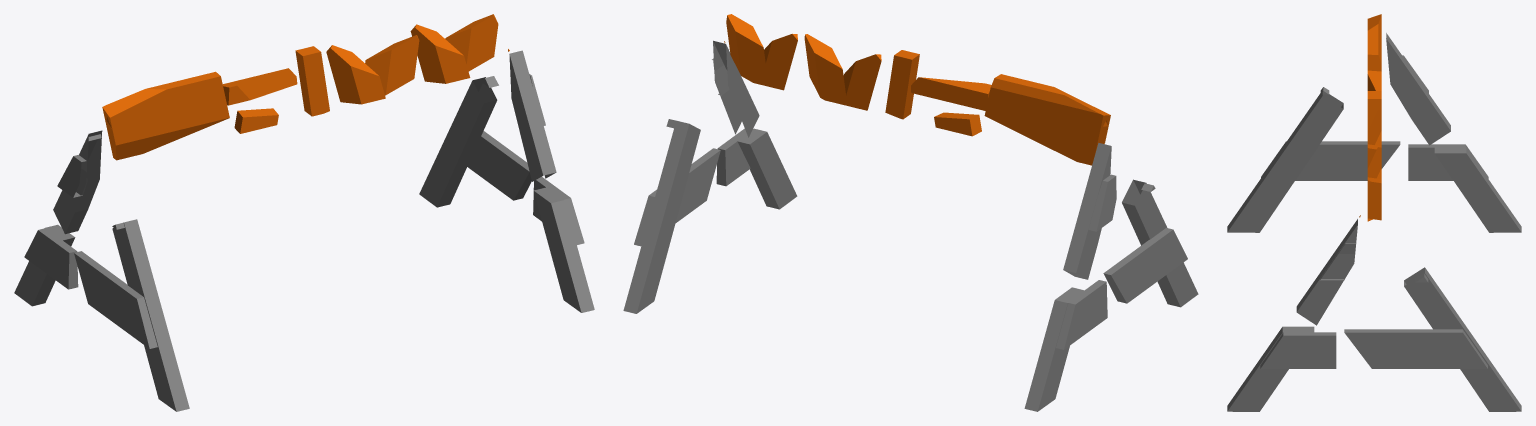
Rendered from Destroyed Wood Barrier.fbx.
The picture shows the model from 3 angles, left to right: view 1: azimuth 30°, elevation 25°; view 2: azimuth 150°, elevation 25°; view 3: azimuth 270°, elevation 25°; orthographic projection. The views are drawn at different scales.
Visible parts, largest first — view 1: Cube.038, Cube.040, Cube.050, Cube.049, Cube, Cube.051, Cube.048, Cube.043, Cube.045, Cube.044, Cube.046, Cube.047 (+2 smaller); view 2: Cube.050, Cube.040, Cube.038, Cube, Cube.049, Cube.048, Cube.051, Cube.044, Cube.046, Cube.041, Cube.047, Cube.043 (+2 smaller); view 3: Cube.050, Cube.038, Cube, Cube.049, Cube.048, Cube.051, Cube.040, Cube.046, Cube.047, Cube.043, Cube.045, Cube.041.
Part boxes in pixels (x1=…): Cube.038: x1=74, y1=219, x2=189, y2=411; Cube.040: x1=102, y1=71, x2=229, y2=160; Cube.050: x1=419, y1=76, x2=531, y2=207; Cube.049: x1=533, y1=176, x2=594, y2=312; Cube: x1=14, y1=224, x2=78, y2=306; Cube.051: x1=509, y1=50, x2=556, y2=181; Cube.048: x1=53, y1=130, x2=102, y2=234; Cube.043: x1=326, y1=45, x2=385, y2=104; Cube.045: x1=410, y1=24, x2=470, y2=83; Cube.044: x1=365, y1=35, x2=419, y2=95; Cube.046: x1=445, y1=14, x2=509, y2=72; Cube.047: x1=295, y1=46, x2=329, y2=116; Cube.050: x1=623, y1=119, x2=720, y2=313; Cube.040: x1=984, y1=74, x2=1110, y2=165; Cube.038: x1=1103, y1=179, x2=1198, y2=307; Cube: x1=1024, y1=280, x2=1107, y2=411; Cube.049: x1=716, y1=128, x2=797, y2=209; Cube.048: x1=1063, y1=143, x2=1116, y2=279; Cube.051: x1=712, y1=40, x2=759, y2=137; Cube.044: x1=804, y1=34, x2=845, y2=104; Cube.046: x1=724, y1=14, x2=765, y2=84; Cube.041: x1=911, y1=77, x2=991, y2=111; Cube.047: x1=885, y1=50, x2=919, y2=119; Cube.043: x1=843, y1=54, x2=881, y2=110; Cube.050: x1=1344, y1=267, x2=1521, y2=411; Cube.038: x1=1227, y1=87, x2=1400, y2=232; Cube: x1=1408, y1=144, x2=1521, y2=232; Cube.049: x1=1227, y1=326, x2=1336, y2=411; Cube.048: x1=1386, y1=33, x2=1450, y2=145; Cube.051: x1=1296, y1=219, x2=1357, y2=325; Cube.040: x1=1367, y1=14, x2=1381, y2=71; Cube.046: x1=1359, y1=177, x2=1381, y2=220; Cube.047: x1=1367, y1=91, x2=1381, y2=130; Cube.043: x1=1367, y1=109, x2=1381, y2=145; Cube.045: x1=1367, y1=147, x2=1381, y2=221; Cube.041: x1=1367, y1=70, x2=1381, y2=90.
Size of the model in its own units: 574 by 315 by 372.
